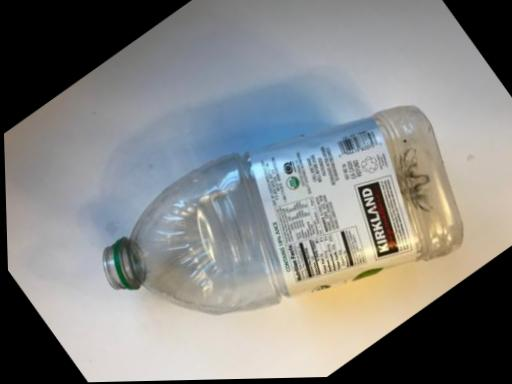plastic: (53, 0, 511, 380)
